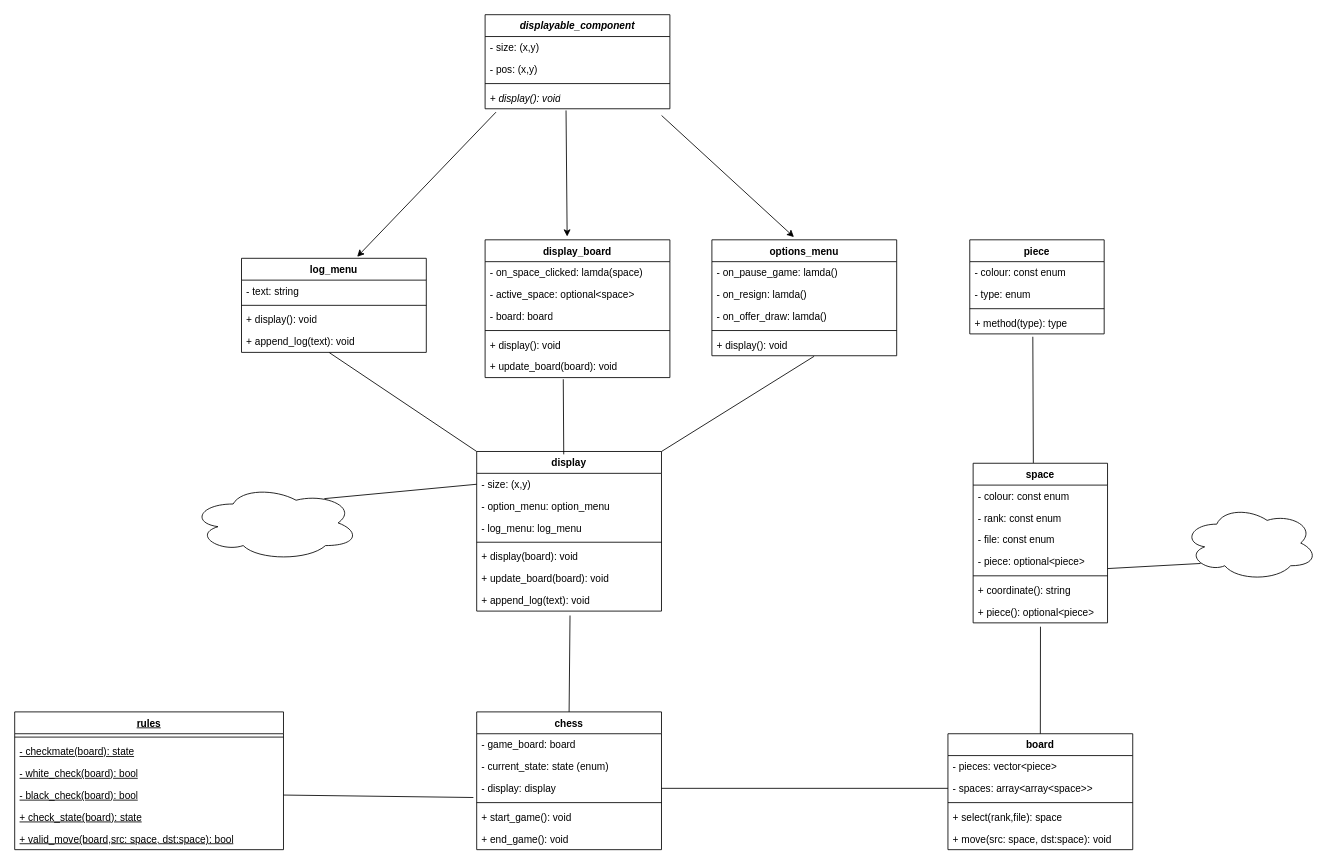
Some shapes in this 1332 by 867 pixel diagram are drawn without their labels. Each missing label, with the centre of its shape:
"needs setters for all comps" goes at point (274, 522).
"piece is set if this space is occupied" goes at point (1250, 542).
